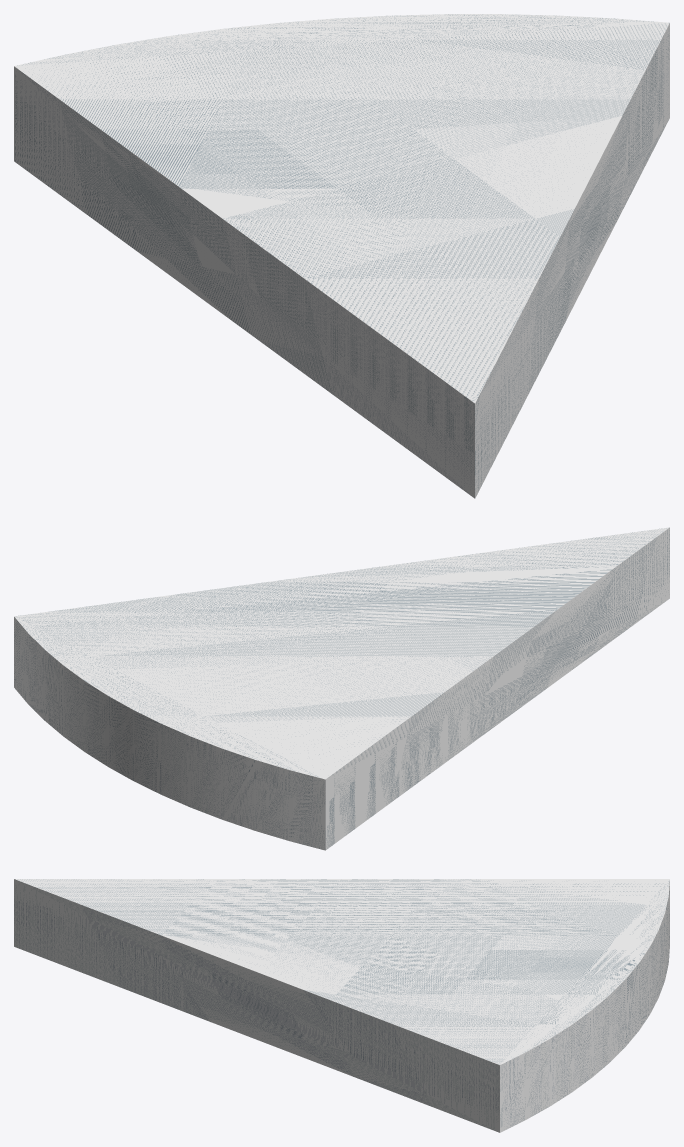
The model's file is 부채꼴.fbx.
The picture shows the model from 3 angles, top to bottom: view 1: azimuth 30°, elevation 25°; view 2: azimuth 150°, elevation 25°; view 3: azimuth 270°, elevation 25°; orthographic projection. The views are drawn at different scales.
Parts seen in each view (by area): view 1: Model; view 2: Model; view 3: Model.
Part boxes in pixels (box(x1,y1,x2,y2)): Model: box(14, 14, 669, 498); Model: box(14, 527, 669, 850); Model: box(14, 879, 669, 1132).
Size of the model in its own units: 5.9 by 1 by 8.78.
